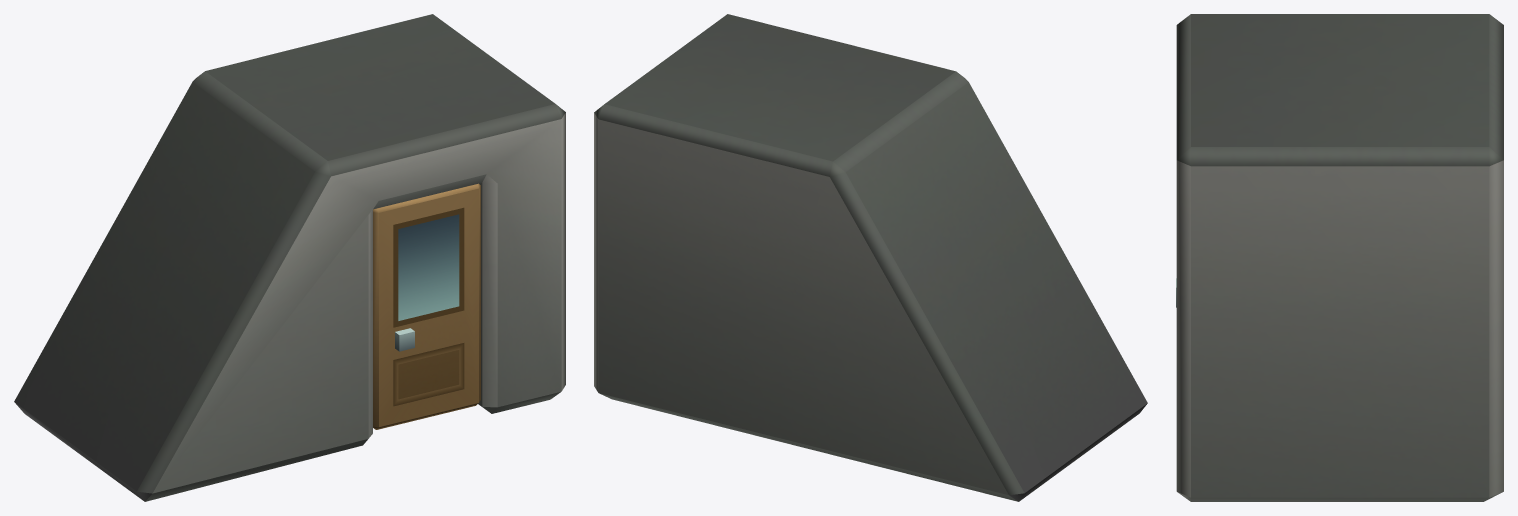
File: rooftop_doorway2.fbx
The picture shows the model from 3 angles, left to right: view 1: azimuth 30°, elevation 25°; view 2: azimuth 150°, elevation 25°; view 3: azimuth 270°, elevation 25°; orthographic projection. The views are drawn at different scales.
Visible parts, largest first — view 1: rooftop_doorway2, door_wood_rooftop_doorway; view 2: rooftop_doorway2; view 3: rooftop_doorway2.
Boxes of the visible parts, box(x1,y1,x2,y2) form: rooftop_doorway2: box(14, 14, 565, 501); door_wood_rooftop_doorway: box(373, 183, 480, 429); rooftop_doorway2: box(594, 14, 1147, 501); rooftop_doorway2: box(1176, 14, 1503, 501).
Size of the model in its own units: 410 by 272 by 223.
